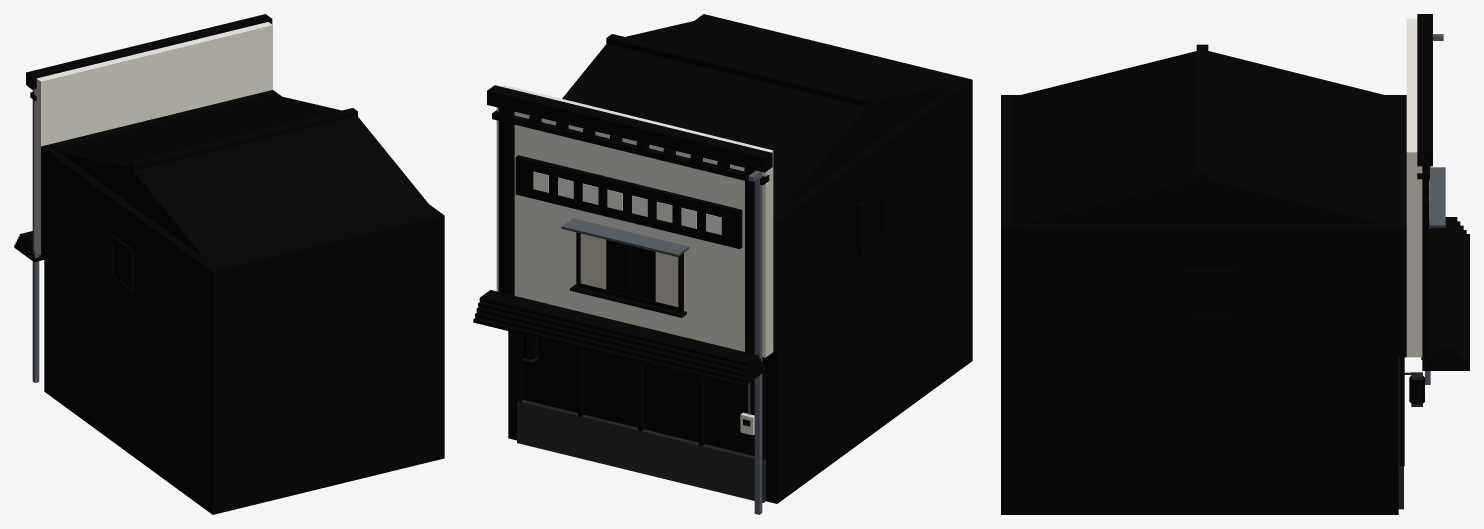
The model's file is Kanban_A.fbx.
The picture shows the model from 3 angles, left to right: view 1: azimuth 30°, elevation 25°; view 2: azimuth 150°, elevation 25°; view 3: azimuth 270°, elevation 25°; orthographic projection. The views are drawn at different scales.
Parts seen in each view (by area): view 1: BodyLow.004, BodyUp.004, Roof.004, BodyFront, Gables.004, Cornice, Pipes.009, WinFrame.009, Glass.009; view 2: BodyLow.004, Roof.004, BodyUp.004, BodyFront, Cornice, LitGlassDim.004, Base, Canopy, SignBand.004, Gables.004, Glass.009, Pipes.009 (+5 smaller); view 3: BodyLow.004, BodyUp.004, Roof.004, Gables.004, Canopy, BodyFront, Cornice, Glass.009, WinFrame.009, Hoods.008, ShopFrame.002.
Part boxes in pixels (<box>): BodyLow.004: <box>44,258,444,514</box>; BodyUp.004: <box>41,90,444,381</box>; Roof.004: <box>51,95,435,267</box>; BodyFront: <box>34,22,272,255</box>; Gables.004: <box>58,151,203,257</box>; Cornice: <box>26,14,272,253</box>; Pipes.009: <box>27,85,39,382</box>; WinFrame.009: <box>109,234,134,293</box>; Glass.009: <box>113,241,129,286</box>; BodyLow.004: <box>508,206,972,503</box>; Roof.004: <box>562,19,961,219</box>; BodyUp.004: <box>694,14,972,351</box>; BodyFront: <box>496,85,773,357</box>; Cornice: <box>487,85,772,354</box>; LitGlassDim.004: <box>523,338,754,452</box>; Base: <box>517,400,765,502</box>; Canopy: <box>473,290,765,387</box>; SignBand.004: <box>515,155,742,248</box>; Gables.004: <box>784,84,953,208</box>; Glass.009: <box>606,195,880,426</box>; Pipes.009: <box>748,170,762,514</box>; BodyLow.004: <box>1001,357,1398,514</box>; BodyUp.004: <box>1001,95,1406,357</box>; Roof.004: <box>1011,44,1393,226</box>; Gables.004: <box>1022,179,1383,223</box>; Canopy: <box>1422,217,1469,370</box>; BodyFront: <box>1406,18,1422,357</box>; Cornice: <box>1417,14,1432,359</box>; Glass.009: <box>1190,275,1232,317</box>; WinFrame.009: <box>1186,235,1432,322</box>; Hoods.008: <box>1429,167,1445,227</box>; ShopFrame.002: <box>1399,357,1404,466</box>.
Size of the model in its own units: 6.2 by 7.65 by 8.9.
